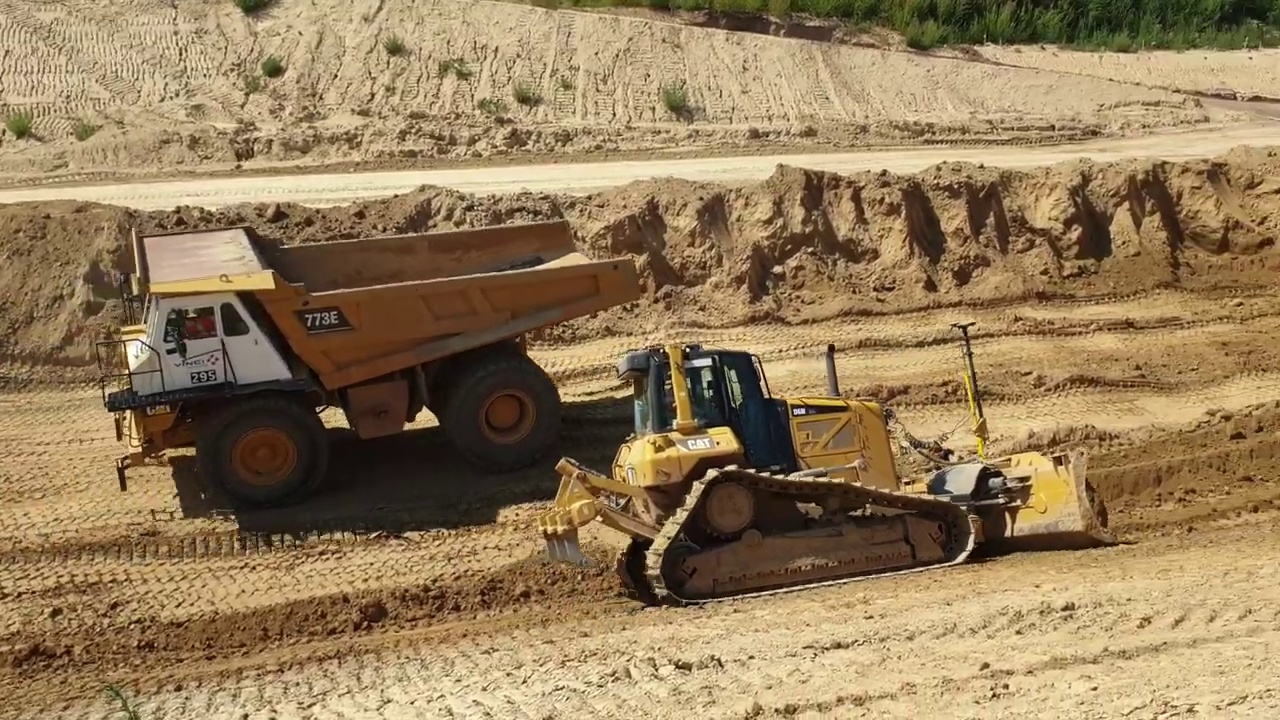bulldozer: (532, 319, 1129, 613)
truck: (91, 214, 642, 516)
